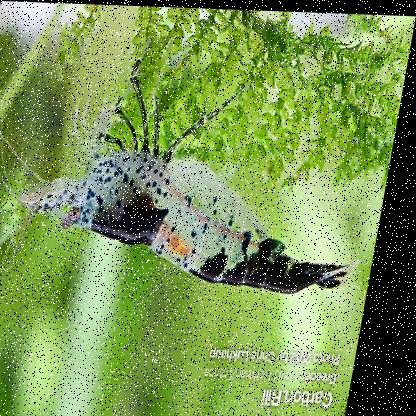shrimp: (23, 83, 389, 291)
